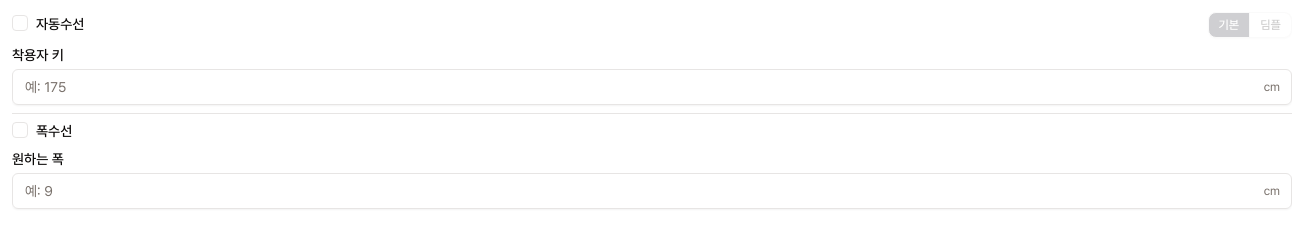
Scenario: BulkApplySection › 자동수선 선택 › 자동수선 체크 시 착용자 키 required 표시(*)가 나타난다
Click the checkbox labelled "자동수선": point(60, 25) [36, 15, 84, 35]
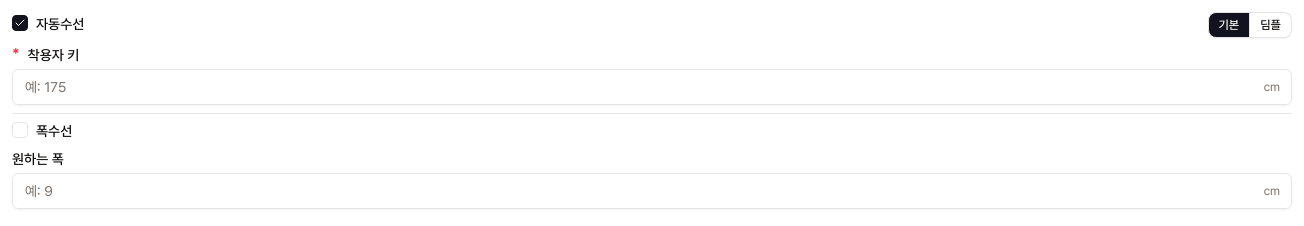
Expected: the text "*" is shown, [12, 44, 20, 63]
